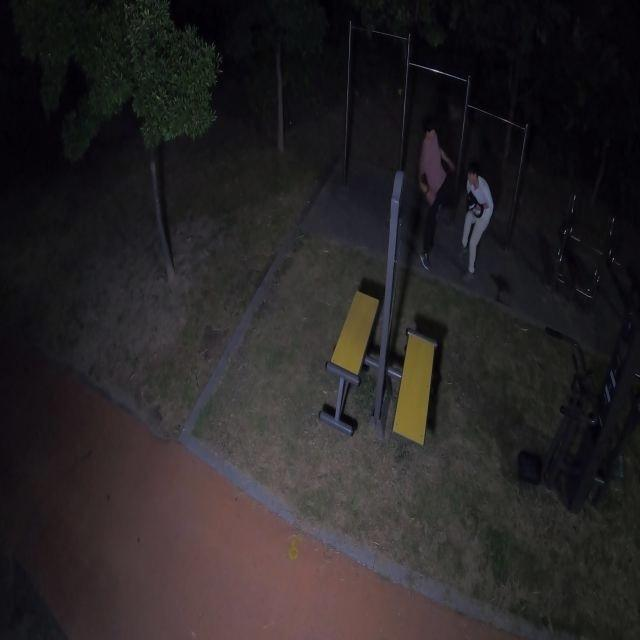fight: (405, 123, 505, 275)
